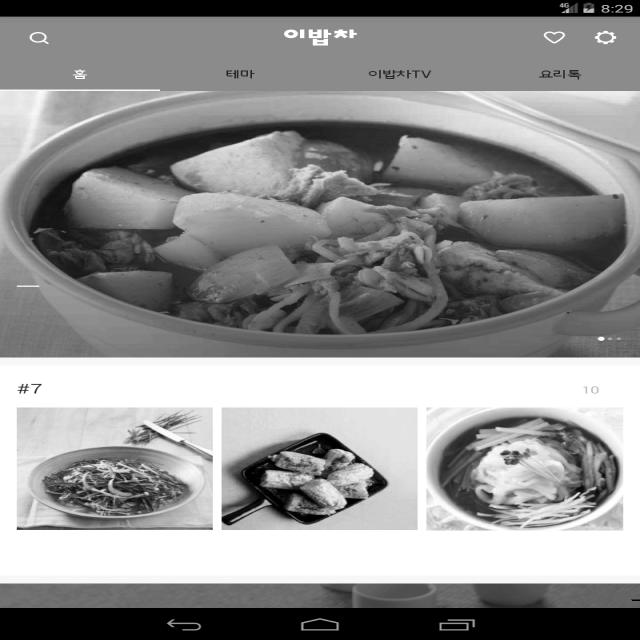ImageButton: (18, 21, 76, 51), (536, 24, 574, 49), (590, 27, 624, 52)
ImageView: (9, 94, 626, 350), (18, 406, 208, 524), (432, 410, 622, 528), (225, 411, 414, 525)
TextView: (272, 20, 371, 48), (362, 61, 458, 84), (208, 62, 290, 84), (524, 63, 598, 85), (8, 376, 65, 398)
